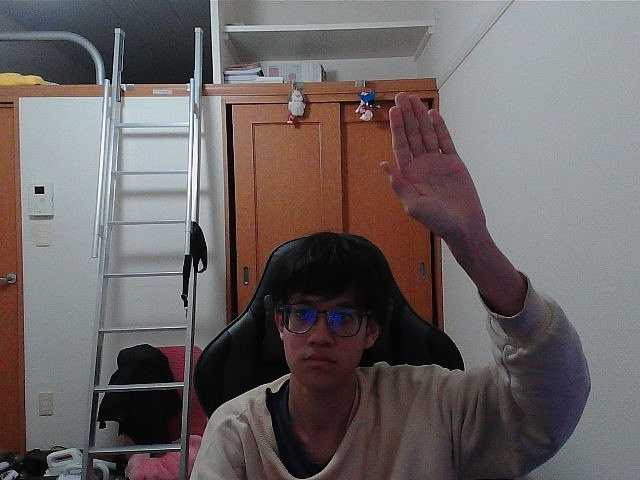open_palm: (388, 100, 465, 223)
